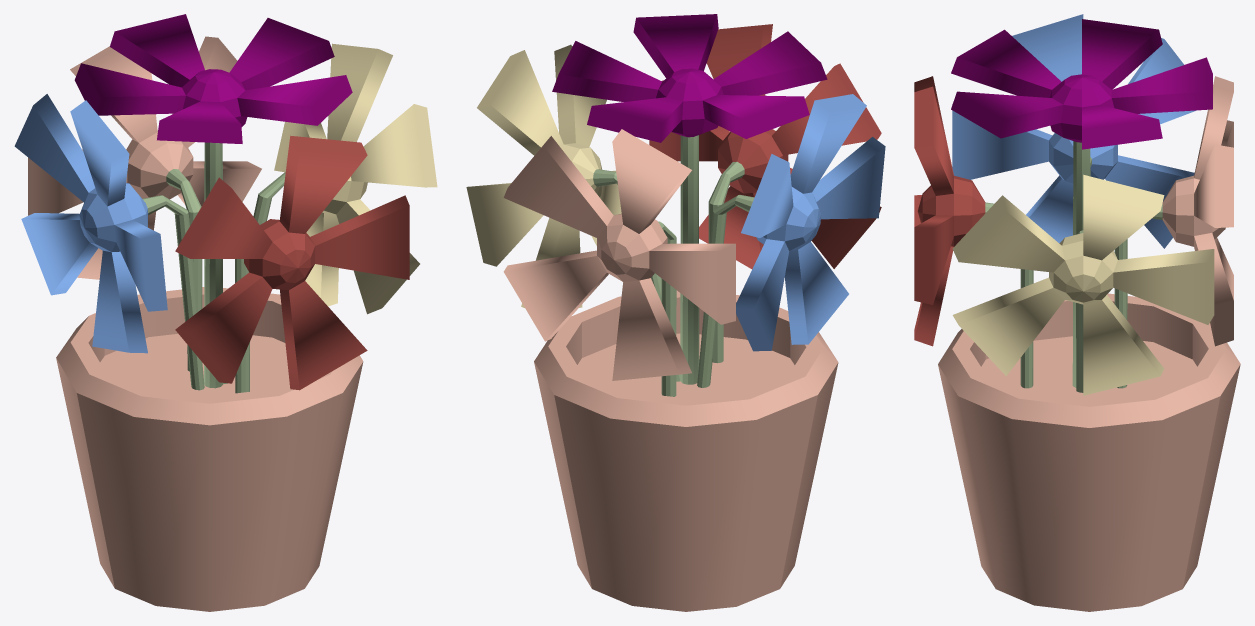
Rendered from geo_flowerPot_01.fbx.
3 renders of one model, left to right at view 1: azimuth 30°, elevation 25°; view 2: azimuth 150°, elevation 25°; view 3: azimuth 270°, elevation 25°, orthographic.
Parts seen in each view (by area): view 1: geo_TV_01:geo_PlantContainer_01, geo_plantShrub_06, geo_plantShrub_08, geo_plantShrub_04, geo_plantShrub_07, geo_plantShrub_09; view 2: geo_TV_01:geo_PlantContainer_01, geo_plantShrub_09, geo_plantShrub_04, geo_plantShrub_08, geo_plantShrub_07, geo_plantShrub_06; view 3: geo_TV_01:geo_PlantContainer_01, geo_plantShrub_07, geo_plantShrub_04, geo_plantShrub_08, geo_plantShrub_06, geo_plantShrub_09.
Part boxes in pixels (<box>): geo_TV_01:geo_PlantContainer_01: <box>56,287,363,611</box>; geo_plantShrub_06: <box>175,135,409,393</box>; geo_plantShrub_08: <box>14,94,204,390</box>; geo_plantShrub_04: <box>74,14,352,388</box>; geo_plantShrub_07: <box>223,43,437,383</box>; geo_plantShrub_09: <box>28,36,261,371</box>; geo_TV_01:geo_PlantContainer_01: <box>534,290,838,611</box>; geo_plantShrub_09: <box>503,129,735,396</box>; geo_plantShrub_04: <box>552,14,827,384</box>; geo_plantShrub_08: <box>697,94,885,387</box>; geo_plantShrub_07: <box>466,44,680,381</box>; geo_plantShrub_06: <box>649,24,881,363</box>; geo_TV_01:geo_PlantContainer_01: <box>938,293,1240,611</box>; geo_plantShrub_07: <box>952,174,1214,395</box>; geo_plantShrub_04: <box>951,19,1212,387</box>; geo_plantShrub_08: <box>952,14,1196,248</box>; geo_plantShrub_06: <box>914,76,1033,388</box>; geo_plantShrub_09: <box>1114,76,1233,388</box>.
Bounding box in the file's own units: 19.55 × 28.87 × 17.37.
